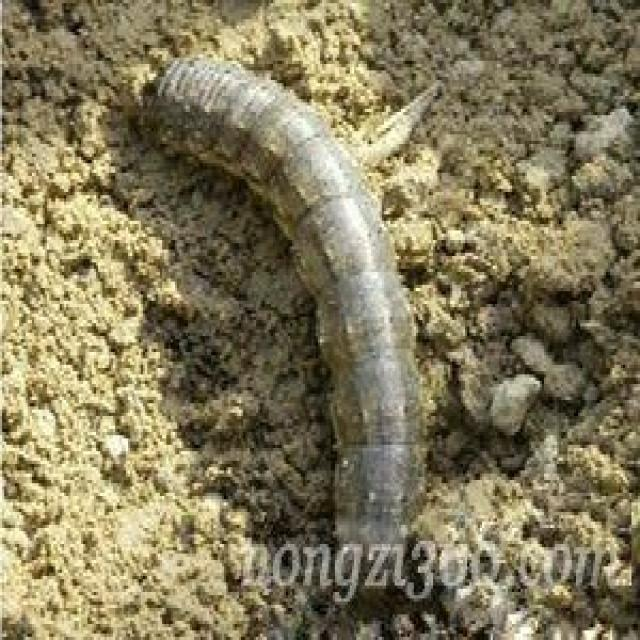black cutworm: (141, 47, 442, 601)
